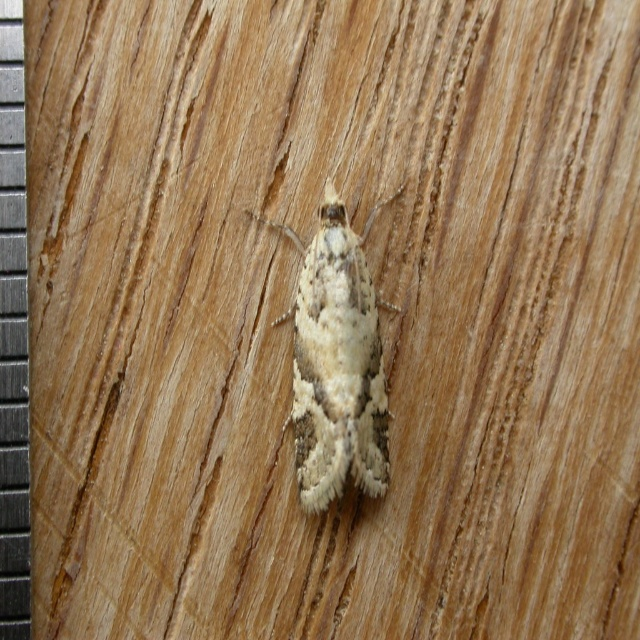Moths and butterflies: (245, 177, 412, 519)
